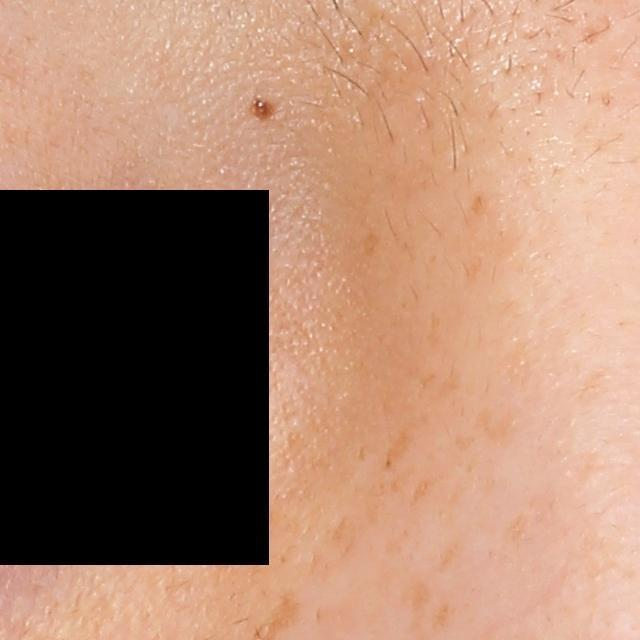melasma: (377, 421, 415, 478), (434, 537, 463, 578), (361, 228, 381, 261), (430, 597, 448, 632)
nevus: (251, 92, 277, 123)
